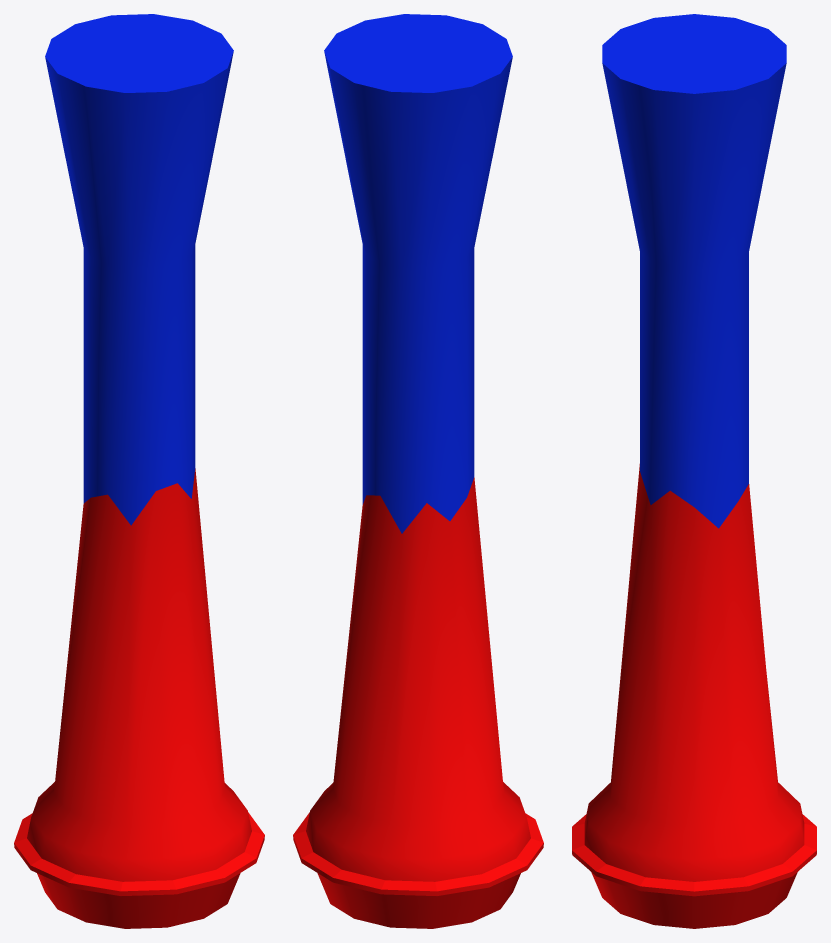
Rendered from body_D.FBX.
3 renders of one model, left to right at view 1: azimuth 30°, elevation 25°; view 2: azimuth 150°, elevation 25°; view 3: azimuth 270°, elevation 25°, orthographic.
Parts seen in each view (by area): view 1: pillar_D_bodydown, pillar_D_bodyup; view 2: pillar_D_bodydown, pillar_D_bodyup; view 3: pillar_D_bodydown, pillar_D_bodyup.
Part boxes in pixels (x1,y1,x2,y2): pillar_D_bodydown: [14, 468, 264, 928]; pillar_D_bodyup: [45, 14, 233, 525]; pillar_D_bodydown: [293, 477, 543, 928]; pillar_D_bodyup: [324, 14, 512, 533]; pillar_D_bodydown: [572, 464, 816, 928]; pillar_D_bodyup: [602, 14, 786, 528].
Bounding box in the file's own units: 10.62 × 38.95 × 10.36.
